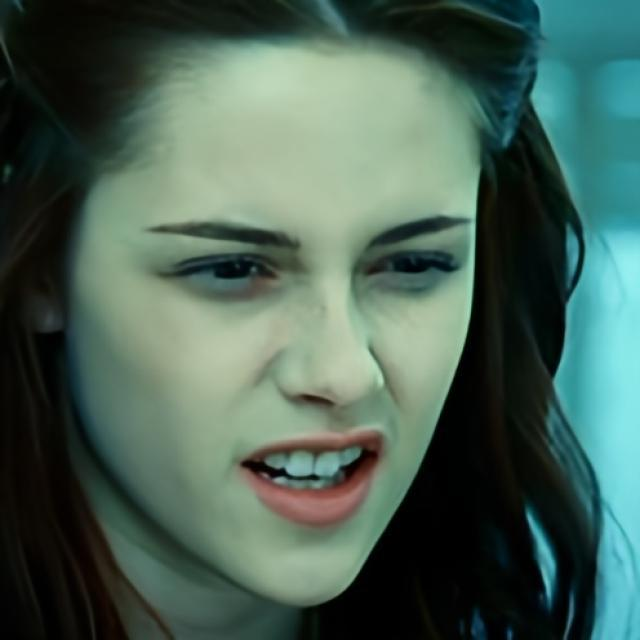disgust: (66, 30, 485, 608)
